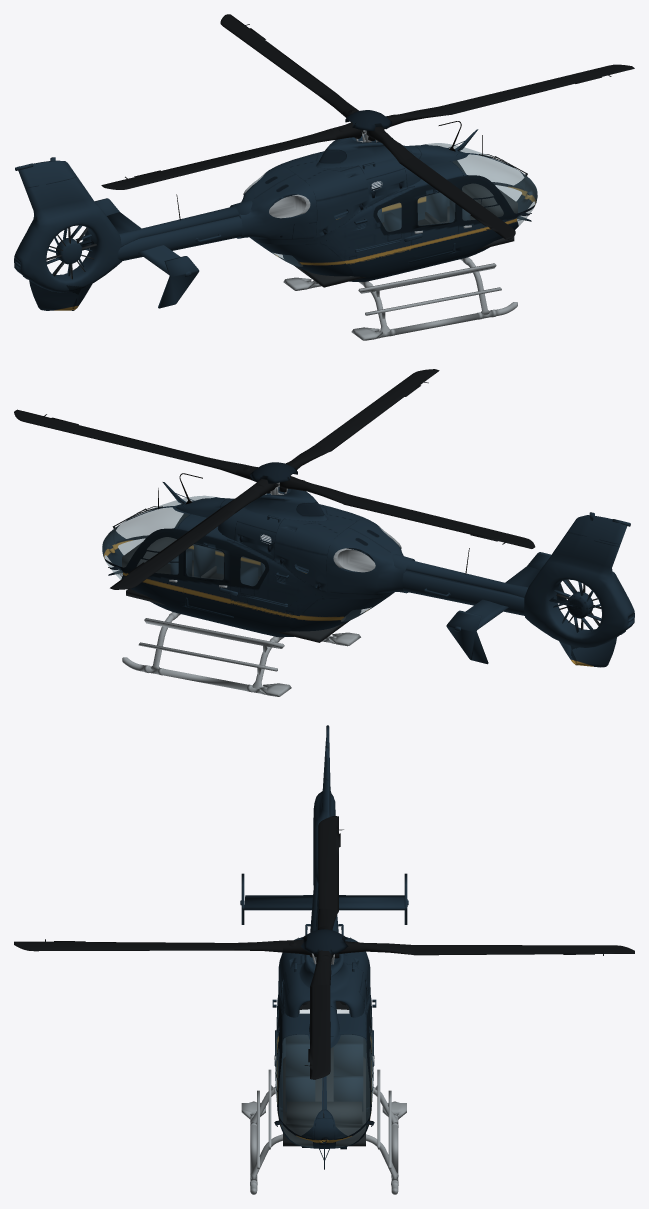
The model's file is light-twin-web.glb.
3 views of the same model, one above another, from view 1: azimuth 30°, elevation 25°; view 2: azimuth 150°, elevation 25°; view 3: azimuth 270°, elevation 25° (orthographic). The views are drawn at different scales.
Parts seen in each view (by area): view 1: fuselage, nonIBF, highskid, windscreen_tri, backdoor.R, reardoor_win.R, frontdoor.R, backdoorglas.R, blade1d, standardstep, blade3d, blade4d (+17 smaller); view 2: fuselage, nonIBF, highskid, windscreen_tri, backdoor.L, reardoor_win.L, frontdoor.L, backdoorglas.L, blade3d, blade4d, standardstep, blade1d (+17 smaller); view 3: fuselage, windscreen_tri, highskid, Cabin floor, Instrument coaming, Cabin seat back.003, nonIBF, blade2d, rotorcap, blade4d, blade3d, blade1d (+5 smaller).
Part boxes in pixels (x1,y1,x2,y2): fuselage: [14, 134, 536, 310]; nonIBF: [274, 151, 368, 237]; highskid: [283, 257, 517, 340]; windscreen_tri: [426, 143, 537, 213]; backdoor.R: [404, 181, 457, 257]; reardoor_win.R: [253, 240, 352, 276]; frontdoor.R: [456, 178, 514, 247]; backdoorglas.R: [418, 192, 454, 225]; blade1d: [101, 165, 193, 189]; standardstep: [358, 263, 496, 297]; blade3d: [543, 64, 634, 89]; blade4d: [220, 14, 277, 53]; fuselage: [103, 487, 634, 667]; nonIBF: [274, 504, 369, 591]; highskid: [122, 612, 360, 696]; windscreen_tri: [102, 495, 214, 567]; backdoor.L: [183, 538, 237, 612]; reardoor_win.L: [290, 594, 391, 631]; frontdoor.L: [126, 532, 184, 602]; backdoorglas.L: [186, 544, 223, 579]; blade3d: [14, 409, 100, 437]; blade4d: [110, 553, 175, 589]; standardstep: [144, 618, 284, 652]; blade1d: [448, 521, 535, 548]; fuselage: [240, 725, 408, 1148]; windscreen_tri: [279, 1035, 369, 1135]; highskid: [241, 1086, 406, 1194]; Cabin floor: [283, 1047, 365, 1146]; Instrument coaming: [286, 1101, 362, 1123]; Cabin seat back.003: [333, 1043, 363, 1075]; nonIBF: [278, 951, 370, 997]; blade2d: [14, 939, 112, 951]; rotorcap: [301, 929, 348, 954]; blade4d: [536, 945, 634, 955]; blade3d: [304, 1036, 330, 1079]; blade1d: [318, 816, 343, 858].
Bounding box in the file's own units: 11.88 × 4.3 × 10.1.
23 materials, 18 textured.
